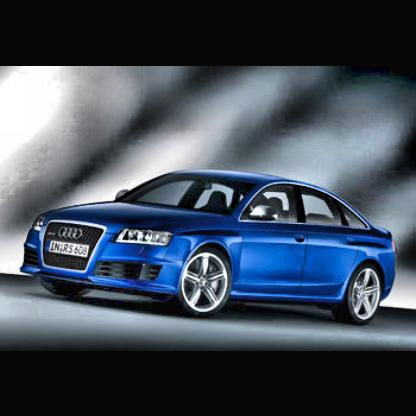Audi S6 Sedan 2011: (19, 164, 401, 331)
